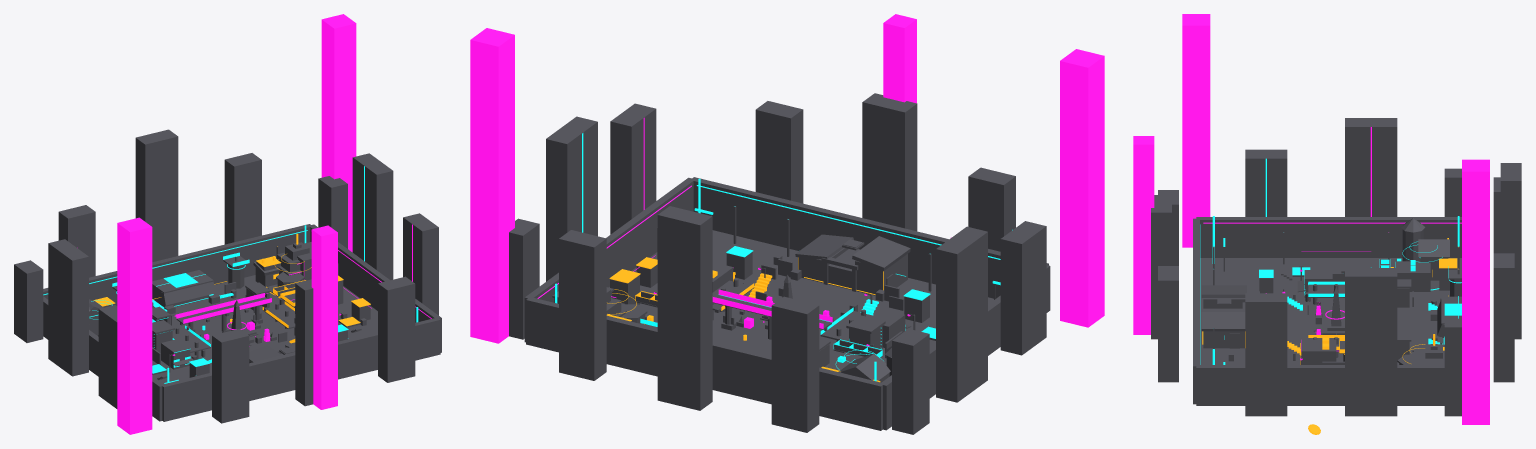
File: Tron.glb
3 views of the same model, side by side, from view 1: azimuth 30°, elevation 25°; view 2: azimuth 150°, elevation 25°; view 3: azimuth 270°, elevation 25° (orthographic). The views are drawn at different scales.
Parts seen in each view (by area): view 1: Tower_1, Wall_South, Tower_2, Building_W2, Building_N2, Tower_3, Building_E2, Wall_North, Arena_Floor, Building_S3, Building_S1, Building_N3 (+13 smaller); view 2: Tower_2, Tower_1, Building_N2, Wall_North, Wall_South, Building_W2, Arena_Floor, Building_S2, Building_N3, Building_N1, Building_E2, Building_W1 (+16 smaller); view 3: Wall_West, Arena_Floor, Building_E2, Tower_2, Wall_East, Tower_1, Building_E1, Building_W2, Tower_3, Building_W1, Building_N3, Building_N2 (+16 smaller).
Boxes of the visible parts, x1,y1,x2,y2 form: Tower_1: (117, 217, 152, 434); Wall_South: (161, 318, 440, 421); Tower_2: (321, 14, 356, 252); Building_W2: (48, 239, 88, 376); Building_N2: (135, 129, 178, 261); Tower_3: (311, 225, 337, 409); Building_E2: (352, 153, 393, 280); Wall_North: (43, 224, 312, 305); Arena_Floor: (152, 275, 377, 384); Building_S3: (378, 276, 415, 382); Building_S1: (212, 329, 249, 423); Building_N3: (224, 153, 261, 244); Tower_2: (470, 28, 514, 343); Tower_1: (1060, 49, 1104, 327); Building_N2: (657, 206, 712, 410); Wall_North: (526, 297, 884, 430); Wall_South: (690, 177, 1048, 298); Building_W2: (936, 226, 987, 402); Arena_Floor: (609, 230, 993, 363); Building_S2: (862, 93, 917, 231); Building_N3: (559, 230, 606, 380); Building_N1: (771, 296, 819, 432); Building_E2: (546, 116, 597, 281); Building_W1: (1000, 221, 1046, 355); Wall_West: (1196, 217, 1461, 257); Arena_Floor: (1200, 258, 1461, 364); Building_E2: (1345, 268, 1397, 416); Tower_2: (1462, 159, 1489, 424); Wall_East: (1196, 365, 1444, 405); Tower_1: (1182, 14, 1210, 247); Building_E1: (1245, 293, 1287, 416); Building_W2: (1345, 118, 1397, 216); Tower_3: (1133, 136, 1154, 334); Building_W1: (1245, 149, 1287, 216); Building_N3: (1493, 253, 1514, 382); Building_N2: (1500, 163, 1521, 339).
Size of the model in its own units: 128 by 87.6 by 111.
